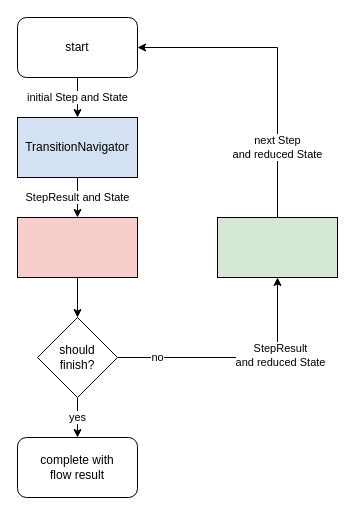
The diagram is 355 pixels wide and 515 high, and some of its shapes have lost their labels. The shapes that lost their labels are listed below. From the top down, each one's centre as x and y in pixels, then its label:
(x=77, y=247): StateReducer
(x=277, y=247): TransitionProvider
